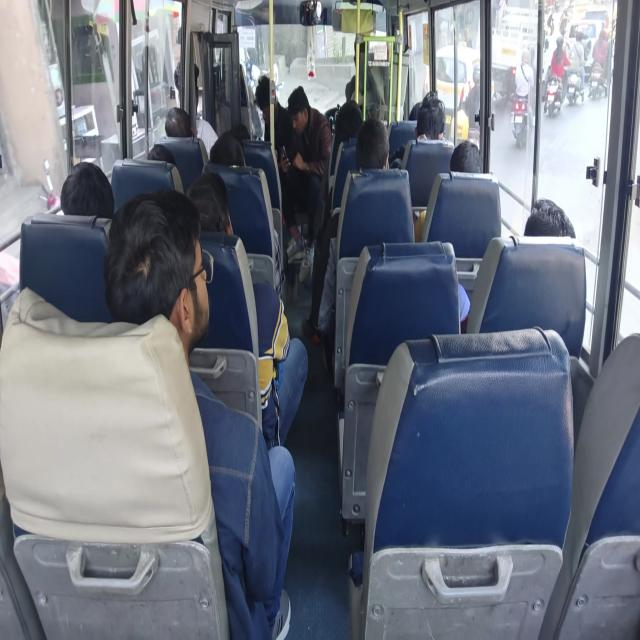person: (126, 230, 216, 339), (61, 167, 110, 220), (528, 200, 572, 254), (188, 180, 236, 228), (214, 136, 249, 177), (354, 124, 384, 169), (418, 96, 448, 140), (289, 93, 312, 134), (335, 106, 361, 142), (146, 144, 180, 170), (453, 138, 477, 174), (163, 105, 192, 134), (255, 83, 278, 119), (226, 123, 250, 151), (351, 38, 374, 64), (224, 35, 242, 62)
